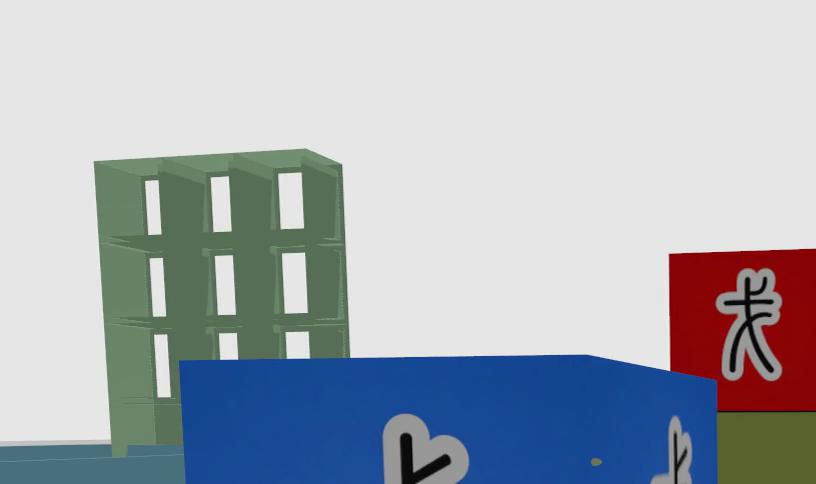KFS_FAKE: (669, 250, 816, 410), (716, 269, 782, 380)
KFS_REAL: (178, 356, 718, 484), (375, 414, 467, 484), (650, 417, 693, 484)
